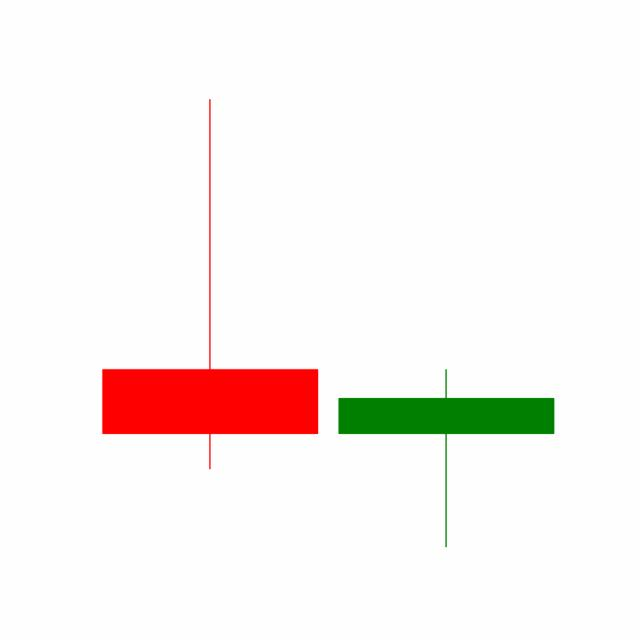Hammer: (327, 366, 565, 550)
